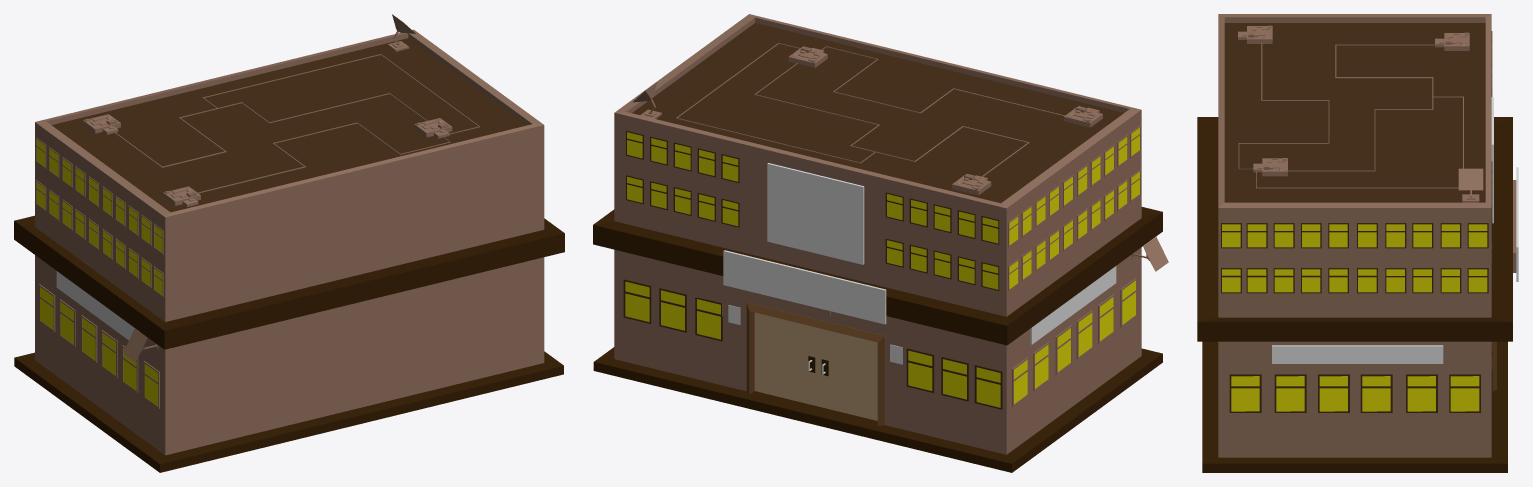
File: New Building 5 A3.fbx
The picture shows the model from 3 angles, left to right: view 1: azimuth 30°, elevation 25°; view 2: azimuth 150°, elevation 25°; view 3: azimuth 270°, elevation 25°; orthographic projection. The views are drawn at different scales.
Visible parts, largest first — view 1: Cube; view 2: Cube; view 3: Cube.
Part boxes in pixels (left/top/right/bottom): Cube: left=14, top=14, right=564, bottom=472; Cube: left=593, top=14, right=1168, bottom=472; Cube: left=1197, top=14, right=1518, bottom=472.
Size of the model in its own units: 1103 by 683 by 699.
